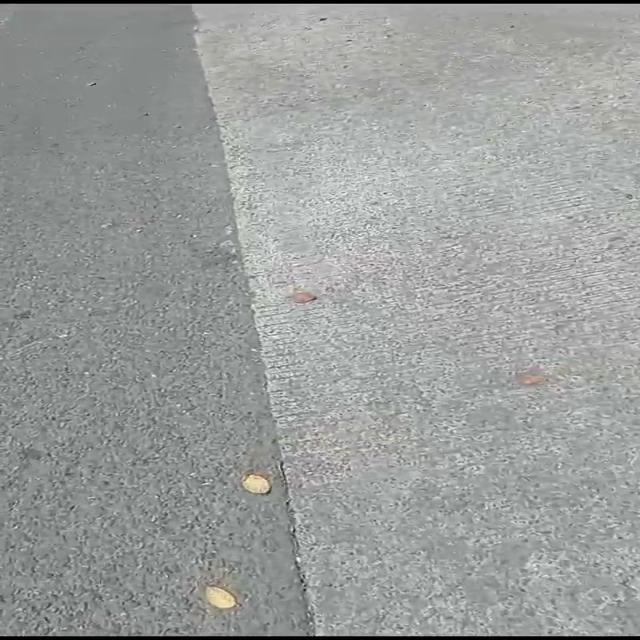Sambungan: (0, 0, 333, 640)
